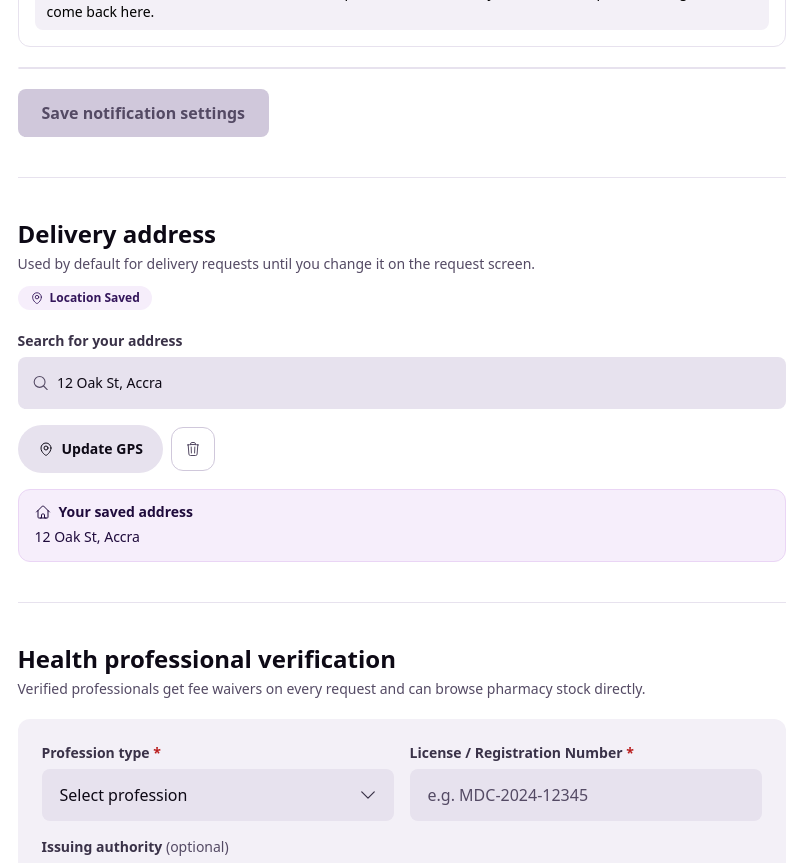
Profile: unsaved changes › treats a cleared home address as a change, and Discard brings it back
(page scrolled)
Click the button named "Clear saved address" at (193, 449), box [171,427,215,471]
(page scrolled)
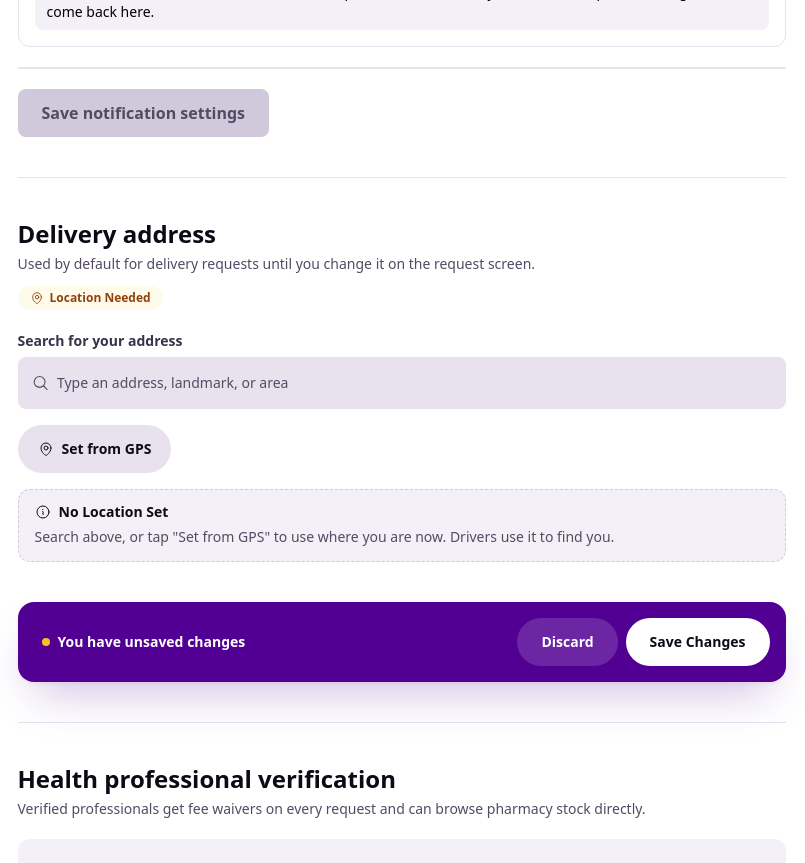
Expected: the element with test id "save-bar" is shown, [18,602,786,682]
Click the button "Discard" at (568, 642), box [517,618,618,666]
(page scrolled)
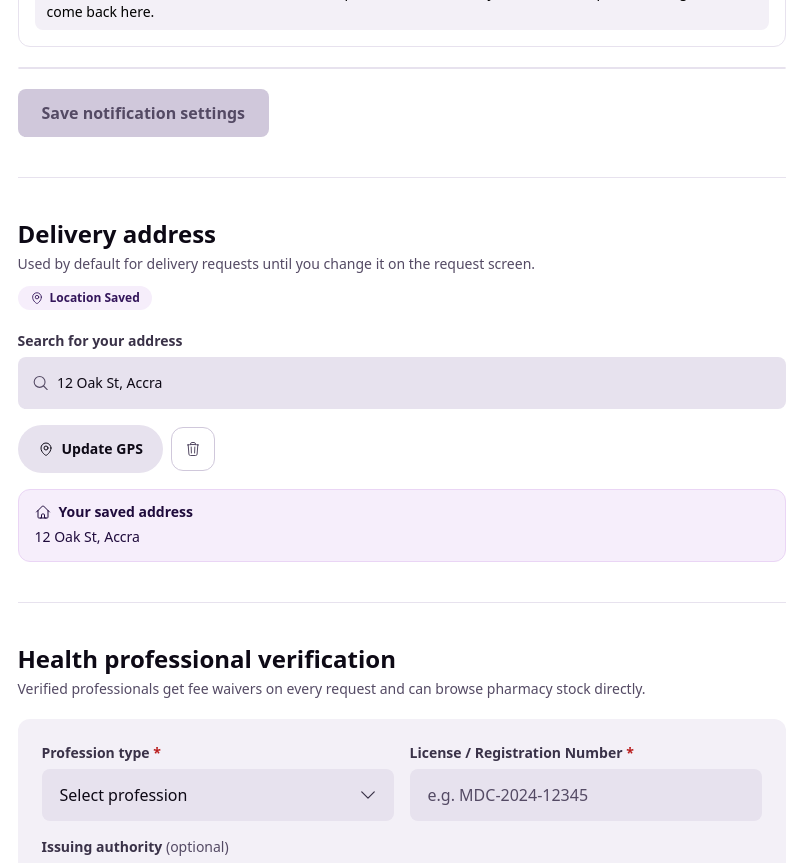
Expected: the text "Location Saved" is shown, [18,286,152,310]
Expected: the dropdown labelled "Search for your address" holds "12 Oak St, Accra", [57,361,772,405]
